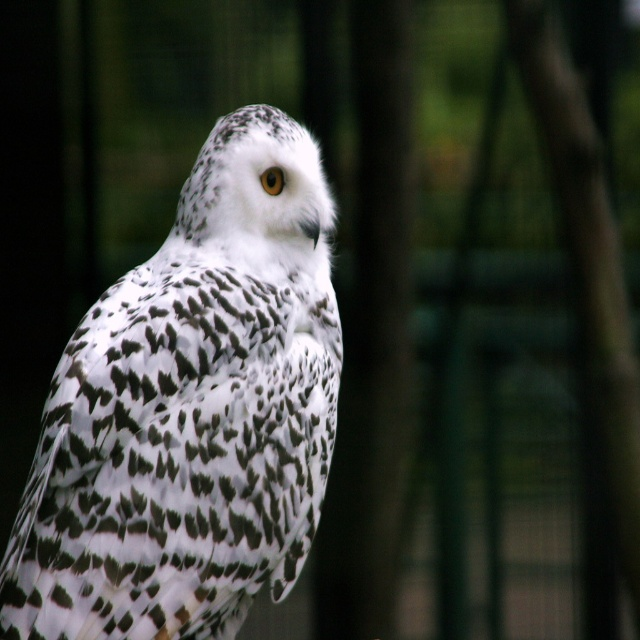Owl: (0, 102, 346, 639)
